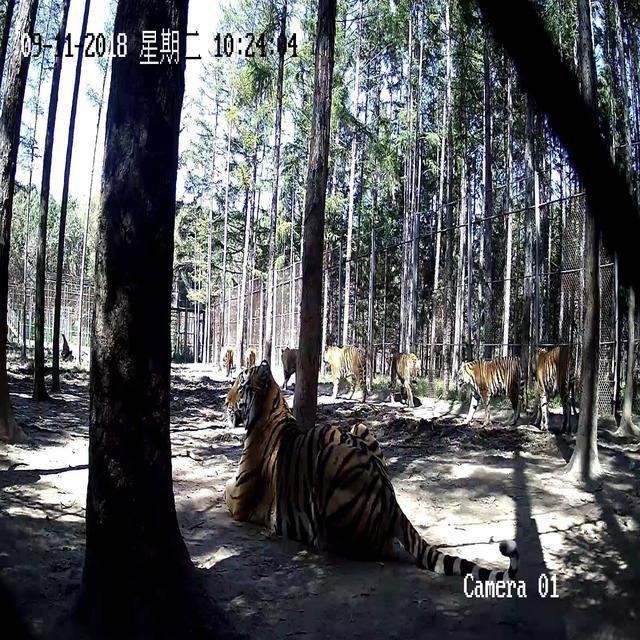tiger: (224, 358, 518, 581), (224, 359, 297, 527), (456, 354, 524, 425), (530, 343, 578, 432), (322, 344, 368, 402), (387, 350, 421, 407), (225, 369, 248, 427), (280, 346, 297, 390), (222, 348, 234, 376), (246, 348, 256, 367)
